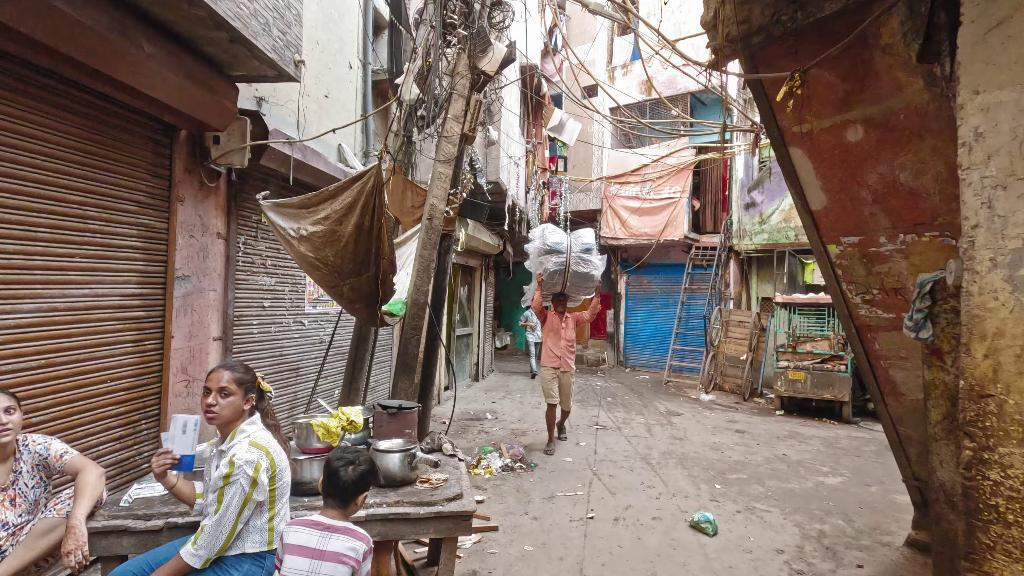garbage: (463, 441, 541, 485), (687, 508, 728, 541)
